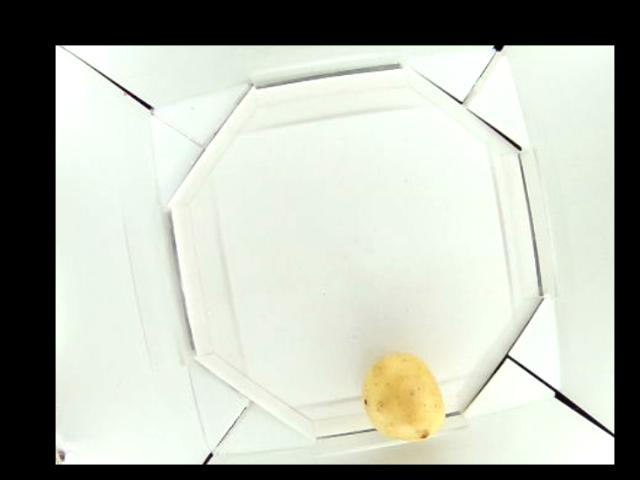Potato: (361, 351, 446, 441)
